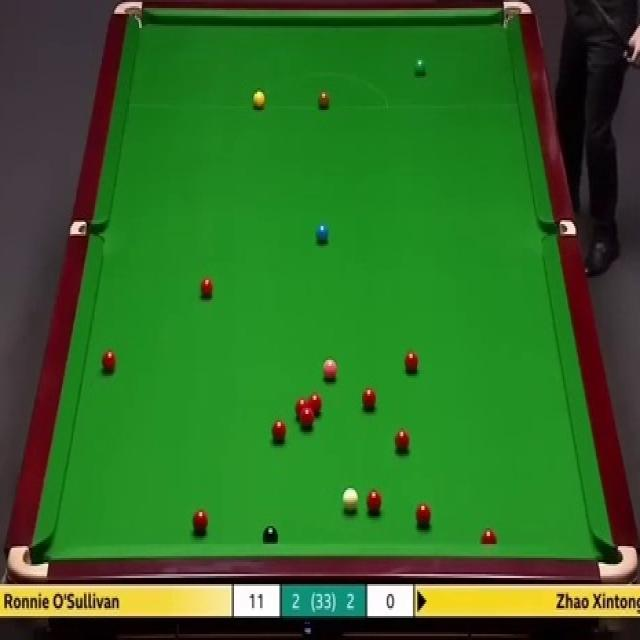black-ball: (262, 526, 279, 545)
blue-ball: (315, 222, 329, 245)
brown-ball: (316, 88, 330, 111)
green-ball: (412, 58, 427, 78)
pink-ball: (323, 354, 338, 382)
red-ball: (403, 349, 420, 378), (100, 347, 118, 374), (414, 503, 431, 529), (192, 509, 209, 534), (366, 489, 382, 515), (394, 430, 410, 455), (361, 387, 376, 412), (199, 278, 215, 301), (272, 419, 286, 443), (308, 394, 322, 418), (481, 524, 496, 544), (301, 410, 314, 430), (295, 398, 308, 418)
white-ball: (341, 482, 359, 516)
yellow-ball: (252, 89, 265, 109)
